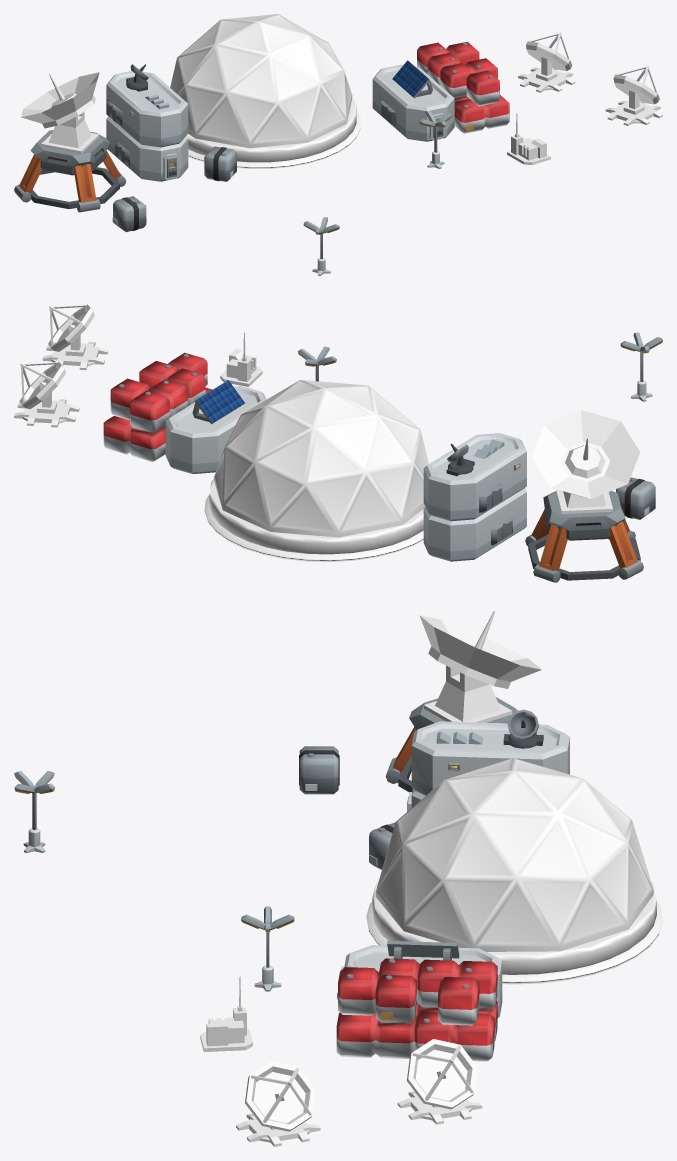
Rendered from Research_5.glb.
3 views of the same model, one above another, from view 1: azimuth 30°, elevation 25°; view 2: azimuth 150°, elevation 25°; view 3: azimuth 270°, elevation 25° (orthographic). The views are drawn at different scales.
Parts seen in each view (by area): view 1: GeodesicDome, cargodepot_C.001, cargodepot_C.002, cargodepot_C, structure_low, satelliteDish_large, satelliteDish_detailed, satelliteDish_detailed.001, cargo_B_packed, cargo_B_packed.001, machine_wirelessCable, lights.001 (+1 smaller); view 2: GeodesicDome, cargodepot_C.001, satelliteDish_large, cargodepot_C.002, structure_low, cargodepot_C, satelliteDish_detailed, satelliteDish_detailed.001, cargo_B_packed, machine_wirelessCable, lights, lights.001; view 3: GeodesicDome, cargodepot_C.002, cargodepot_C.001, satelliteDish_large, satelliteDish_detailed, satelliteDish_detailed.001, cargodepot_C, cargo_B_packed, machine_wirelessCable, structure_low, lights, lights.001 (+1 smaller).
Boxes of the visible parts, left/top/right/bottom form: GeodesicDome: left=170, top=14, right=360, bottom=168; cargodepot_C.001: left=106, top=64, right=188, bottom=181; cargodepot_C.002: left=417, top=42, right=509, bottom=133; cargodepot_C: left=372, top=60, right=454, bottom=141; structure_low: left=14, top=130, right=126, bottom=212; satelliteDish_large: left=21, top=72, right=99, bottom=153; satelliteDish_detailed: left=518, top=32, right=575, bottom=92; satelliteDish_detailed.001: left=605, top=65, right=662, bottom=125; cargo_B_packed: left=112, top=196, right=146, bottom=232; cargo_B_packed.001: left=204, top=146, right=236, bottom=181; machine_wirelessCable: left=507, top=113, right=550, bottom=164; lights.001: left=419, top=111, right=452, bottom=168; GeodesicDome: left=204, top=380, right=428, bottom=562; cargodepot_C.001: left=423, top=433, right=526, bottom=561; satelliteDish_large: left=531, top=410, right=640, bottom=513; cargodepot_C.002: left=103, top=352, right=212, bottom=462; structure_low: left=525, top=491, right=643, bottom=582; cargodepot_C: left=165, top=380, right=266, bottom=473; satelliteDish_detailed: left=14, top=361, right=79, bottom=427; satelliteDish_detailed.001: left=42, top=304, right=108, bottom=369; cargo_B_packed: left=616, top=477, right=655, bottom=519; machine_wirelessCable: left=220, top=332, right=262, bottom=386; lights: left=620, top=332, right=662, bottom=401; lights.001: left=297, top=346, right=336, bottom=381; GeodesicDome: left=366, top=758, right=662, bottom=984; cargodepot_C.002: left=336, top=958, right=497, bottom=1061; cargodepot_C.001: left=407, top=709, right=569, bottom=811; satelliteDish_large: left=419, top=611, right=541, bottom=722; satelliteDish_detailed: left=397, top=1039, right=482, bottom=1124; satelliteDish_detailed.001: left=236, top=1061, right=320, bottom=1146; cargodepot_C: left=337, top=940, right=502, bottom=1017; cargo_B_packed: left=299, top=746, right=339, bottom=794; machine_wirelessCable: left=200, top=976, right=252, bottom=1051; structure_low: left=385, top=697, right=517, bottom=792; lights: left=14, top=771, right=54, bottom=852; lights.001: left=241, top=906, right=294, bottom=991.
Bounding box in the file's own units: 12.23 × 2.36 × 8.3.
5 materials, 4 textured.
